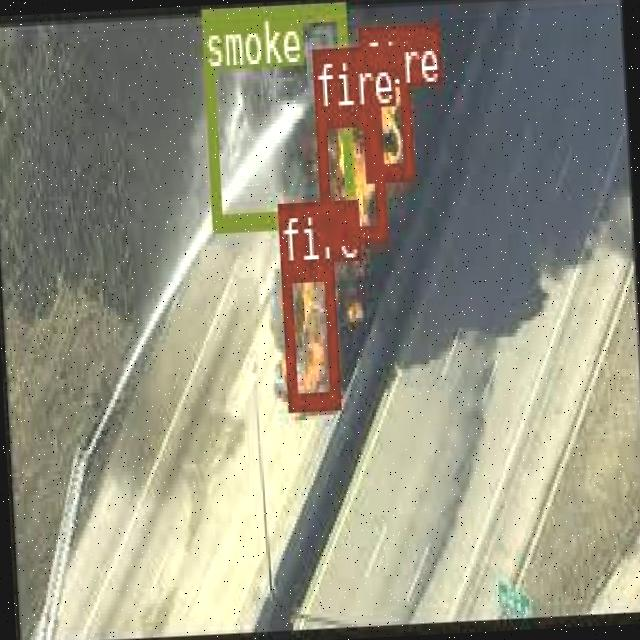fire: (315, 105, 386, 242), (279, 260, 337, 406), (358, 26, 412, 180)
smoke: (200, 0, 353, 229)
